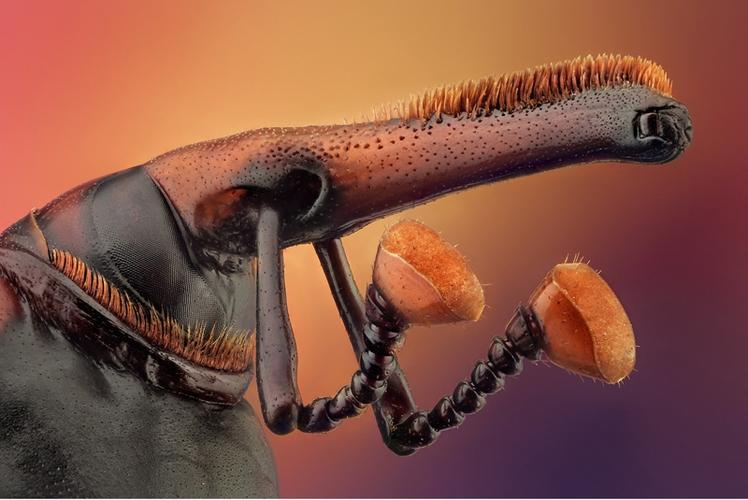Curculionidae: (1, 51, 694, 500)
